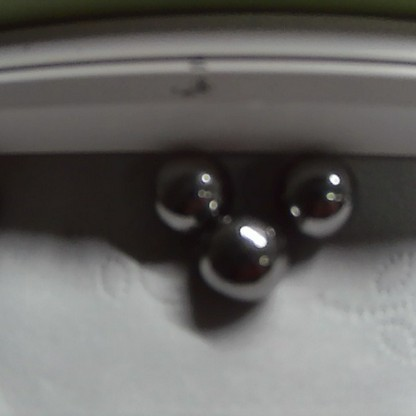ironball: (199, 216, 289, 303), (129, 140, 228, 219), (288, 164, 360, 236)
